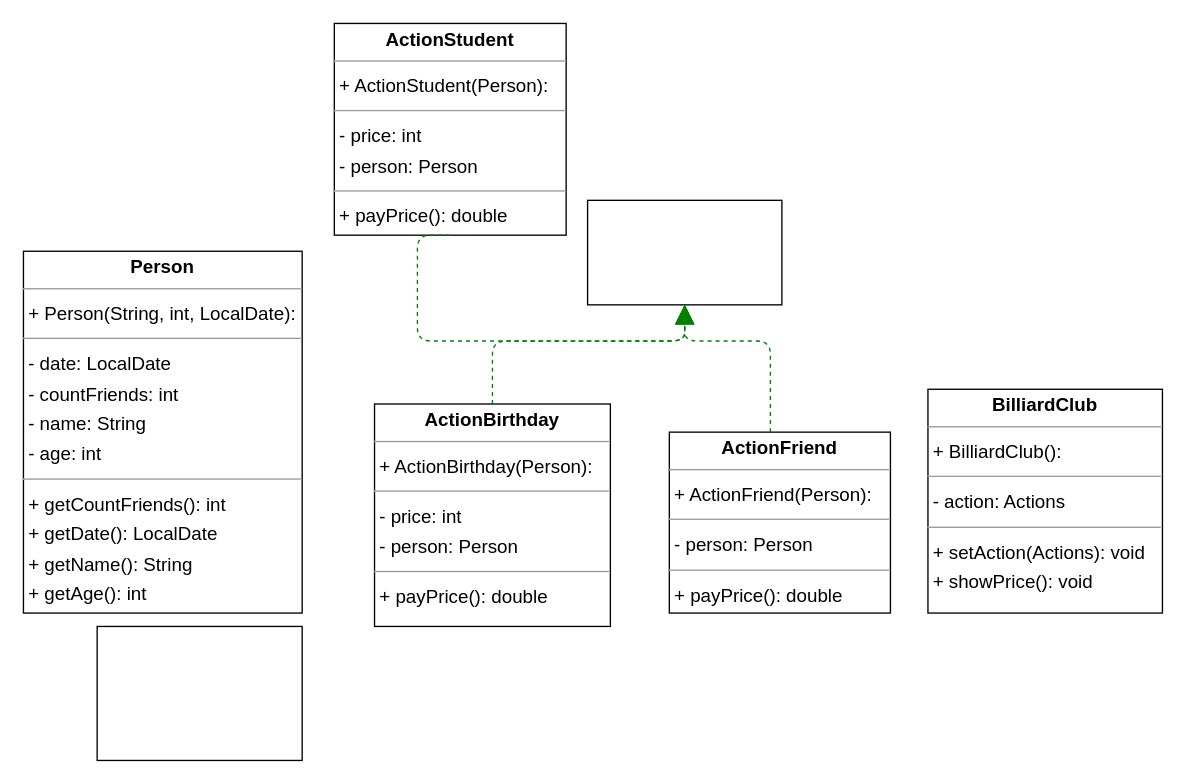
Some shapes in this 1186 by 784 pixel diagram are drawn without their labels. Here are the shapes that lost their labels. From the top down, the centre of each, then its label:
At pixel 684 252: "<<interface>> Actions + payPrice(): double".
At pixel 199 692: "Main + Main(): + main(String[]): void".
